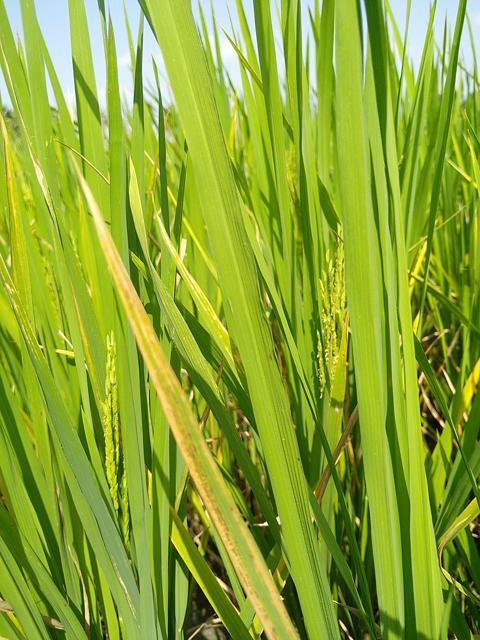Leaf Blight: (437, 498, 479, 608), (332, 406, 358, 464), (312, 465, 331, 505), (273, 558, 289, 594)
Leaf Streak: (72, 156, 298, 639), (158, 212, 250, 399), (0, 255, 43, 361), (0, 109, 29, 258)
